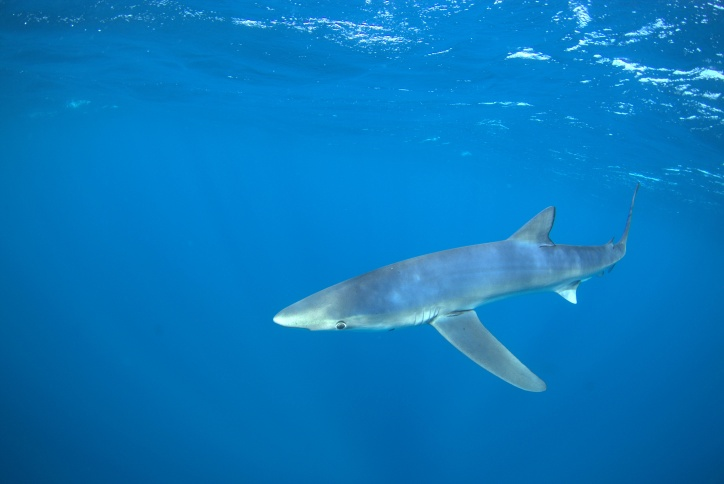Azul: (256, 168, 642, 399)
